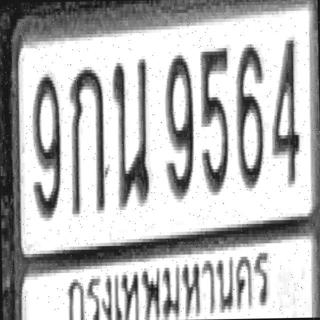A01: (69, 63, 107, 214)
A25: (111, 56, 149, 206)
N04: (270, 37, 300, 184)
N05: (199, 44, 230, 192)
N06: (235, 41, 265, 188)
N09: (31, 72, 62, 216), (164, 50, 194, 198)
P04: (61, 238, 274, 320)
